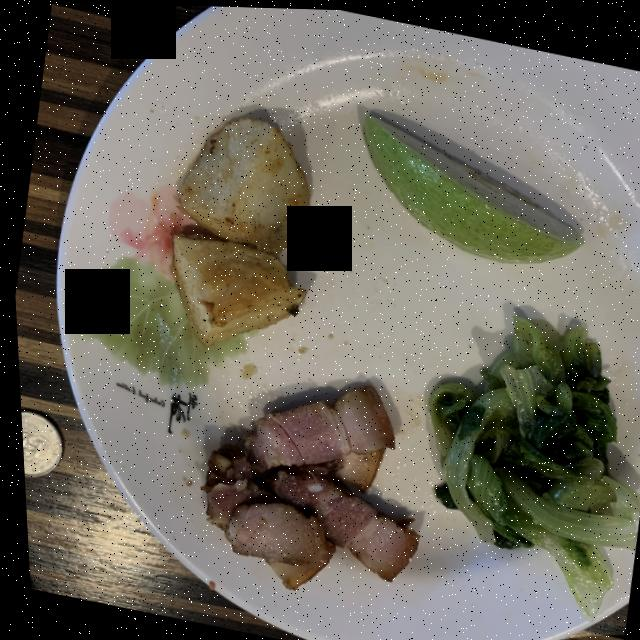coin: (17, 410, 57, 476)
fried potato: (169, 114, 307, 344)
grilled pork: (196, 383, 413, 588)
guava -sliced-: (361, 112, 581, 259)
mustard greens: (424, 312, 636, 614)
